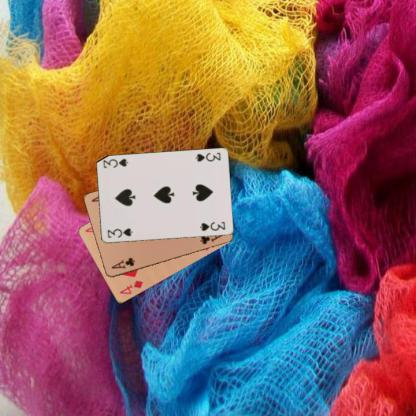3s: (104, 226, 134, 239), (193, 150, 221, 163)
4d: (117, 278, 144, 296)
Ac: (109, 255, 136, 270)
